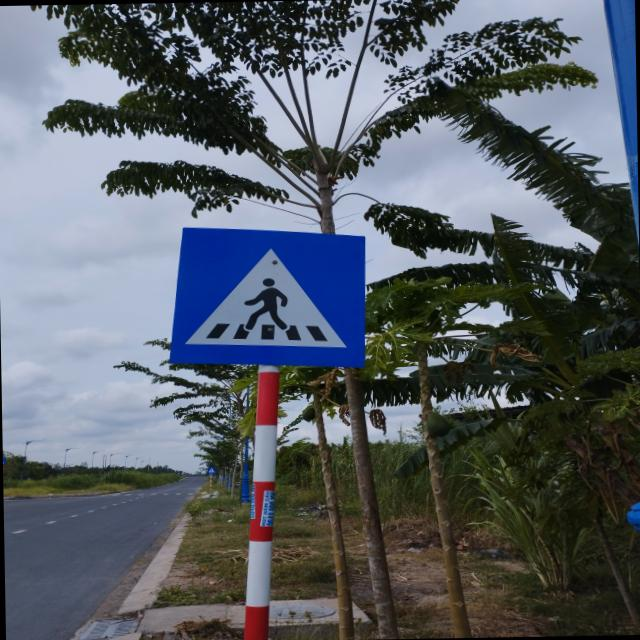Giao_Nhau_Duong_Uu_Tien: (168, 223, 366, 369)
